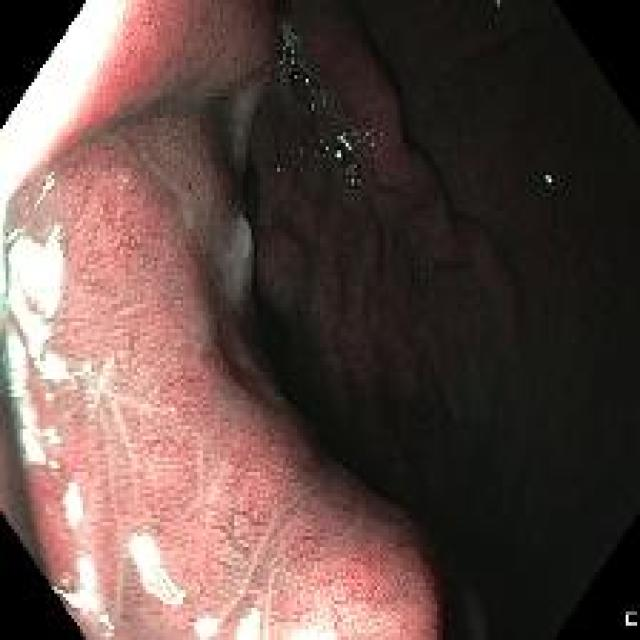bubbles: (267, 21, 291, 73), (288, 66, 319, 105), (306, 131, 334, 166), (332, 141, 356, 167), (418, 253, 437, 280), (344, 172, 363, 194), (475, 89, 489, 105), (436, 59, 450, 74), (276, 164, 288, 178), (266, 216, 276, 230)
contrast: (243, 3, 629, 624), (241, 149, 258, 230)
saturation: (0, 1, 130, 230)
specularity: (5, 221, 71, 355), (129, 533, 185, 611), (53, 553, 104, 626), (32, 346, 81, 398), (18, 397, 45, 470), (63, 476, 86, 535), (7, 331, 26, 390), (237, 603, 264, 637), (286, 623, 334, 639), (31, 174, 55, 201), (97, 609, 117, 637), (40, 431, 65, 452), (338, 135, 356, 158), (542, 164, 556, 192), (81, 362, 100, 382), (198, 615, 217, 633), (42, 388, 57, 407), (329, 148, 345, 165), (47, 457, 63, 473), (288, 65, 299, 86), (304, 73, 314, 91)
